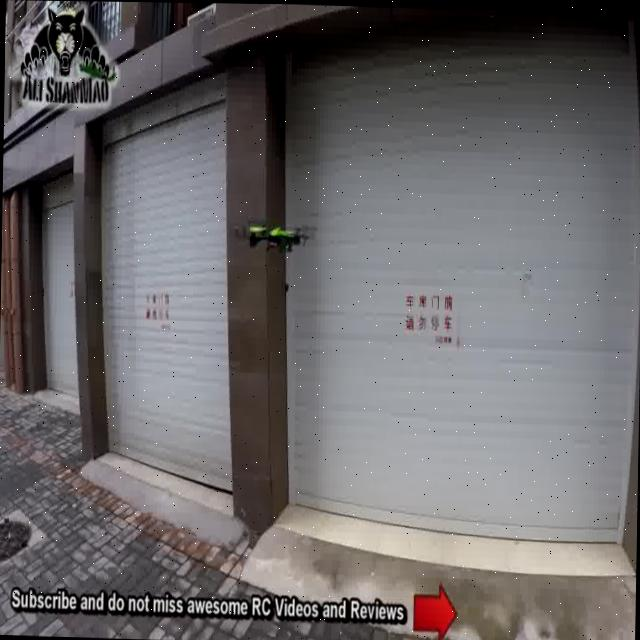drone: (227, 201, 324, 257)
